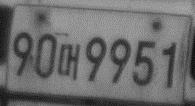0: (34, 33, 58, 78)
1: (161, 40, 177, 89)
5: (130, 39, 157, 87)
9: (108, 37, 131, 85), (84, 36, 107, 82), (11, 30, 33, 77)
머: (57, 42, 81, 81)
